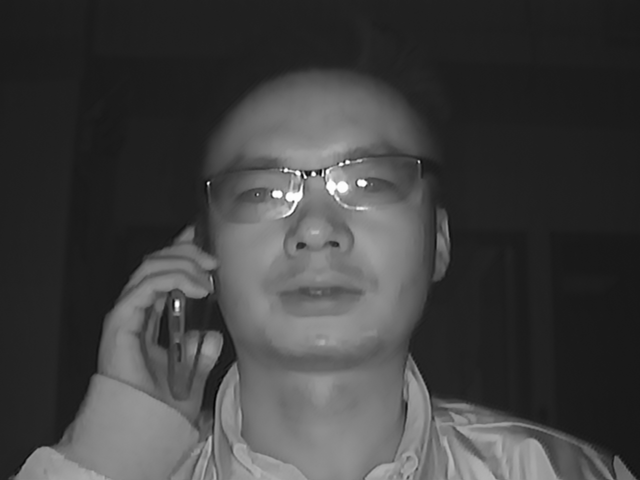hand: (92, 236, 221, 406)
